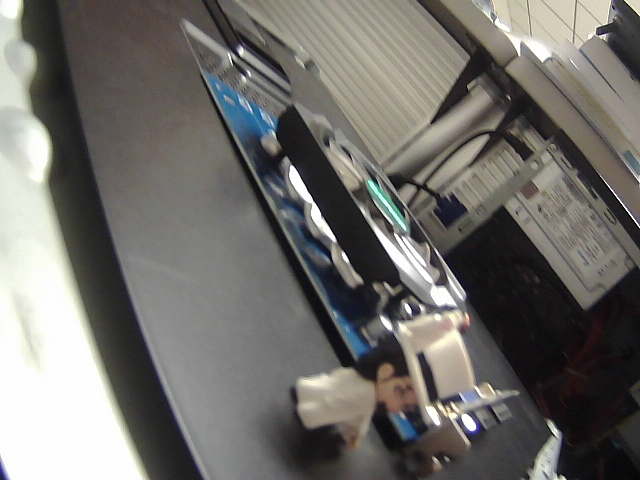lucci: (283, 306, 488, 467)
